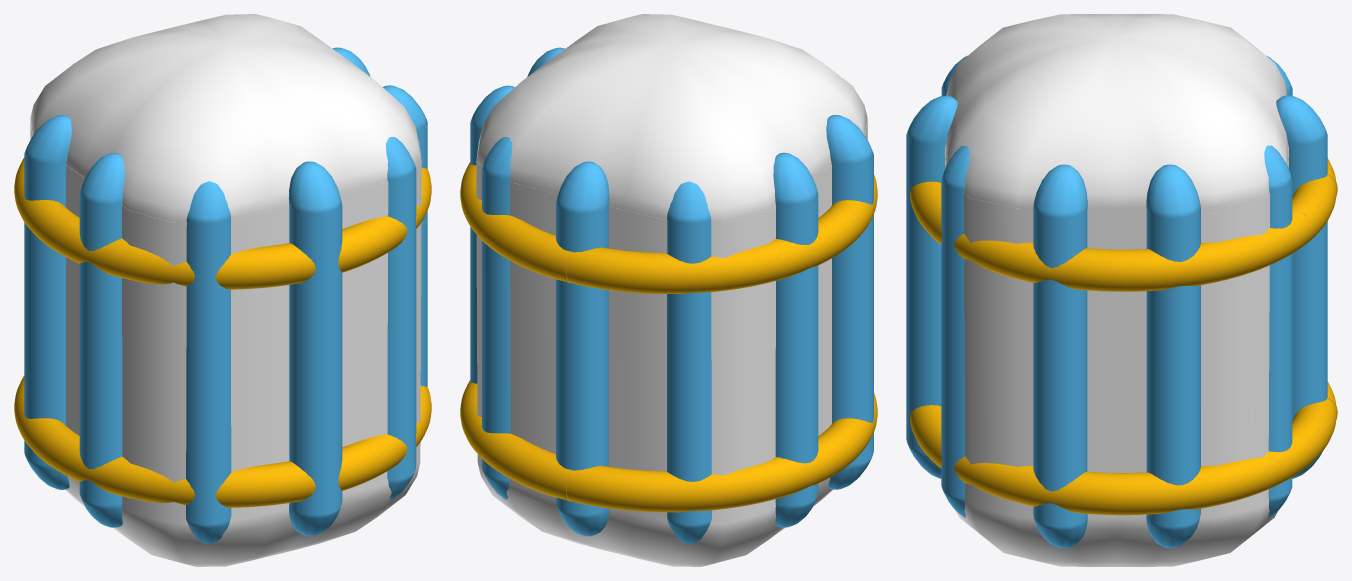
File: pack.fbx
The picture shows the model from 3 angles, left to right: view 1: azimuth 30°, elevation 25°; view 2: azimuth 150°, elevation 25°; view 3: azimuth 270°, elevation 25°; orthographic projection. The views are drawn at different scales.
Parts seen in each view (by area): view 1: New_mesh; view 2: New_mesh; view 3: New_mesh.
Boxes of the visible parts, left/top/right/bottom form: New_mesh: left=14, top=14, right=431, bottom=566; New_mesh: left=460, top=14, right=877, bottom=566; New_mesh: left=906, top=14, right=1337, bottom=566.
Size of the model in its own units: 101 by 132 by 102.
